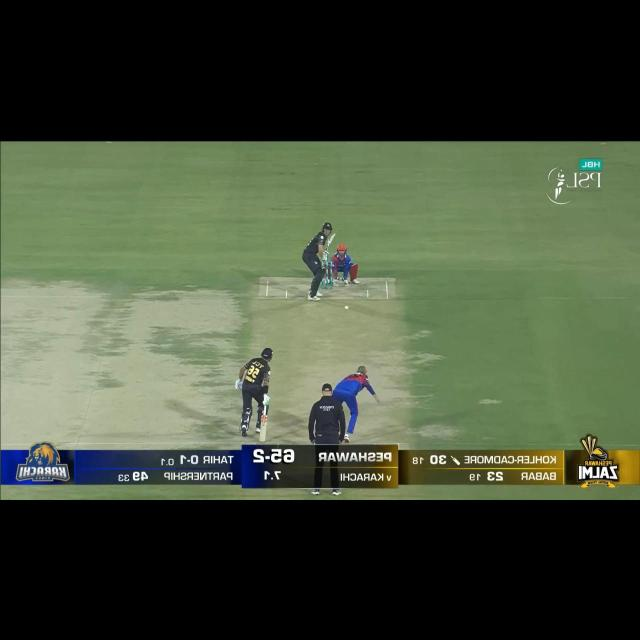bat: (258, 416, 268, 444), (326, 232, 337, 251)
toe: (258, 437, 269, 444), (332, 233, 336, 236)
